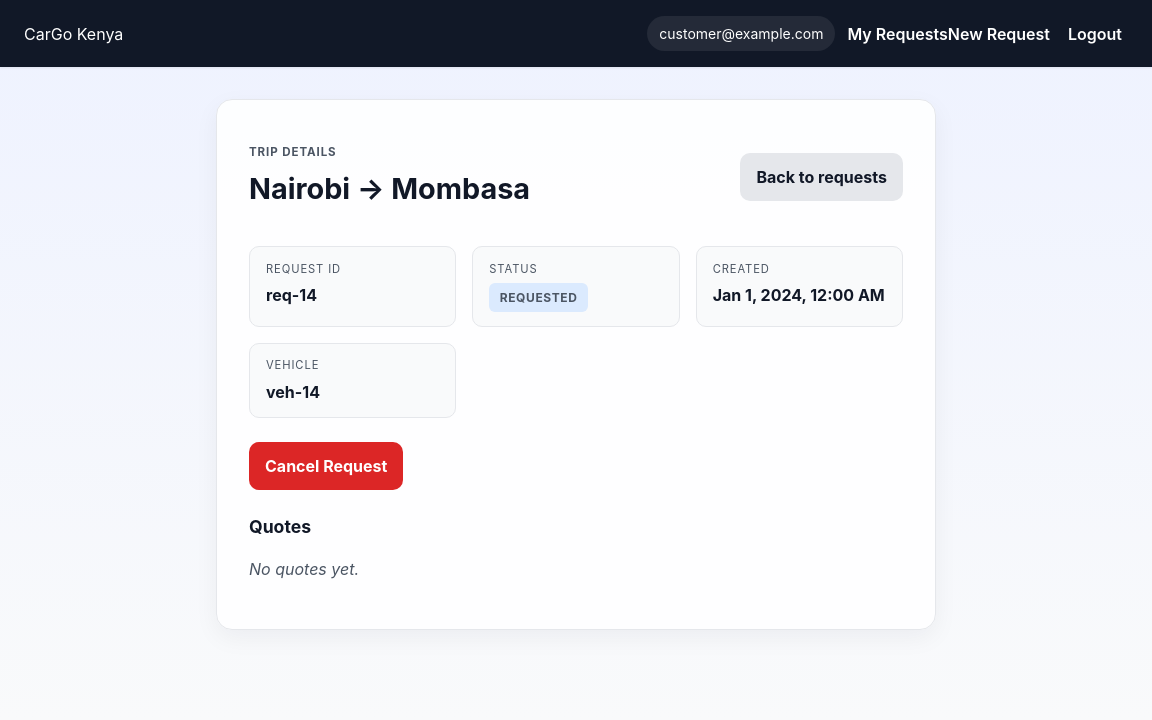
Test case: customer foundation workflow › does not change status when backend rejects cancellation
Click the button "Cancel Request".
click(326, 466)  # box [249,442,403,490]
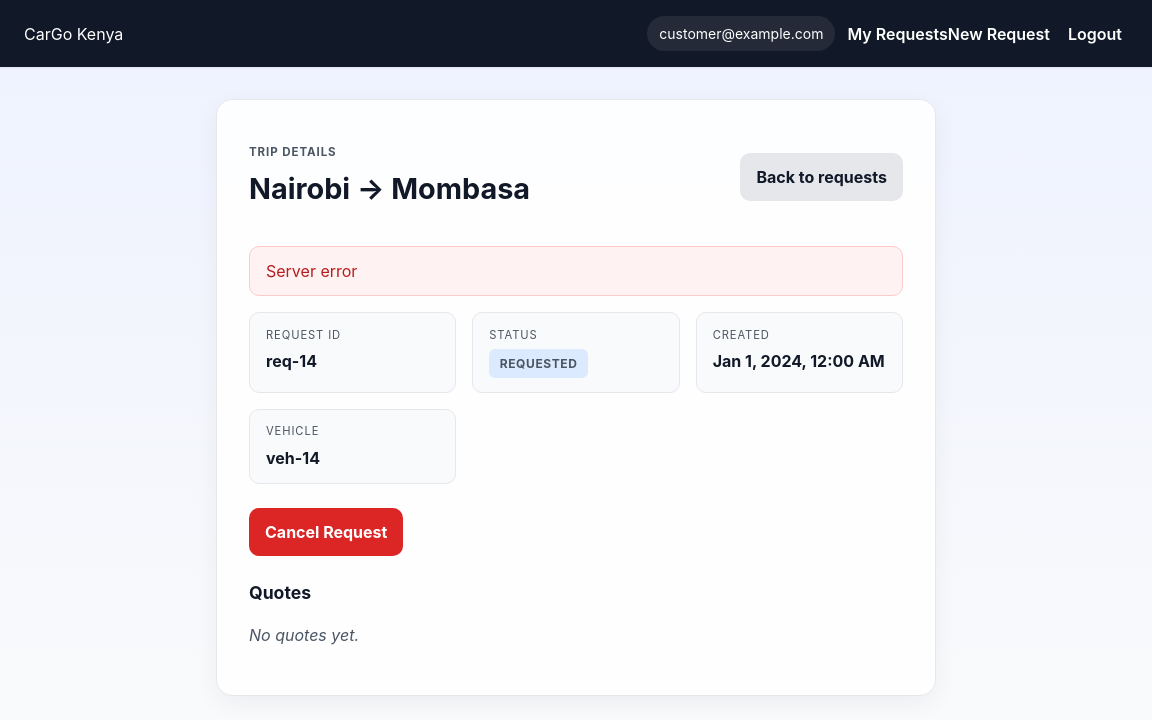
Expected: the text "REQUESTED" is shown, [489,349,588,378]
Expected: the text "Server error" is shown, [249,246,903,296]
